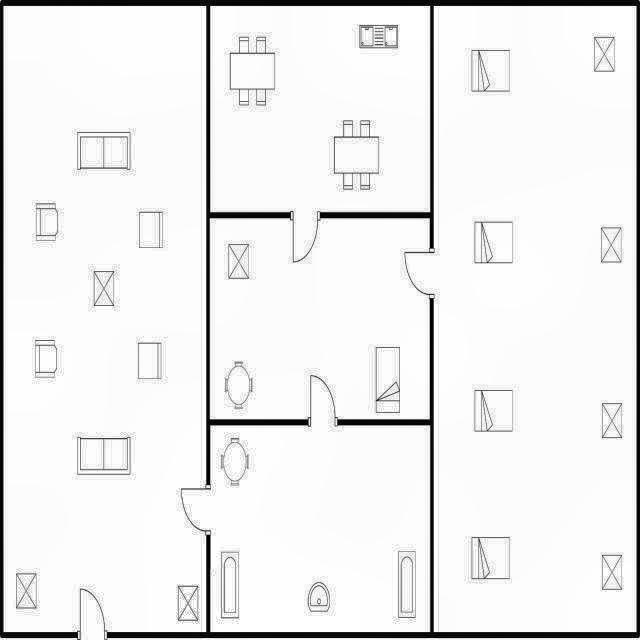room: (434, 5, 637, 632), (3, 6, 206, 632), (210, 425, 430, 632), (210, 6, 430, 212), (210, 218, 430, 419)
